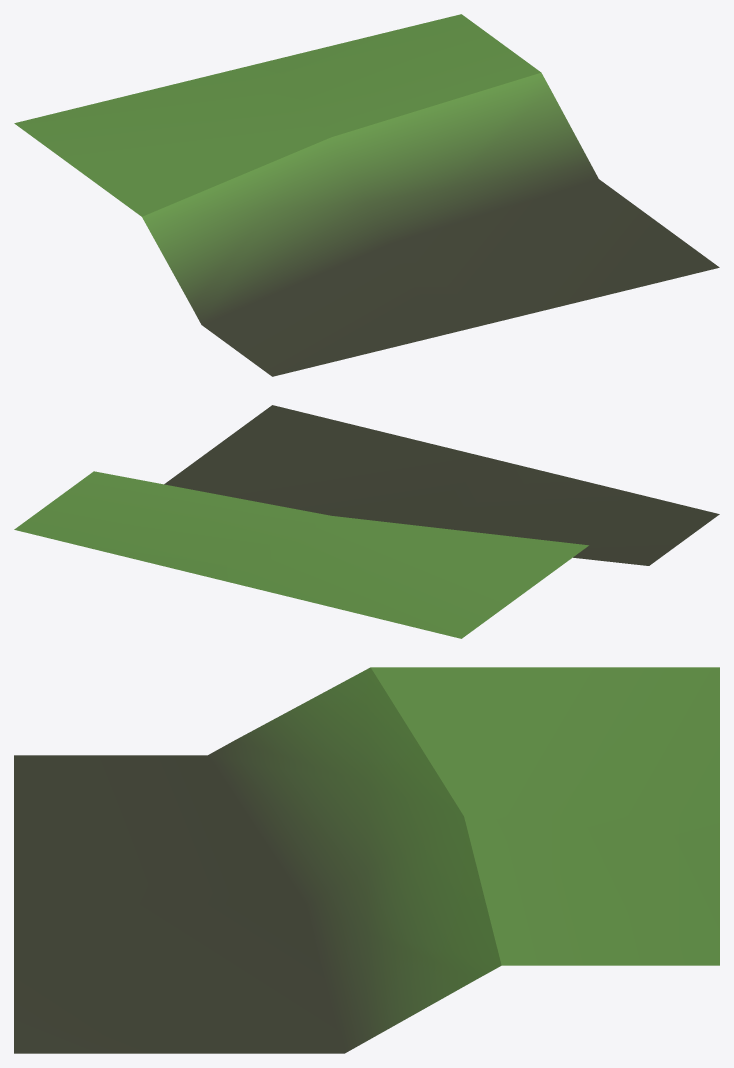
The model's file is terrain_18_4_2.glb.
3 renders of one model, top to bottom at view 1: azimuth 30°, elevation 25°; view 2: azimuth 150°, elevation 25°; view 3: azimuth 270°, elevation 25°, orthographic. The views are drawn at different scales.
Visible parts, largest first — view 1: m; view 2: m; view 3: m.
Boxes of the visible parts, left/top/right/bottom form: m: left=14, top=14, right=719, bottom=376; m: left=14, top=405, right=719, bottom=638; m: left=14, top=667, right=719, bottom=1053.
Size of the model in its own units: 4 by 0.55 by 4.
